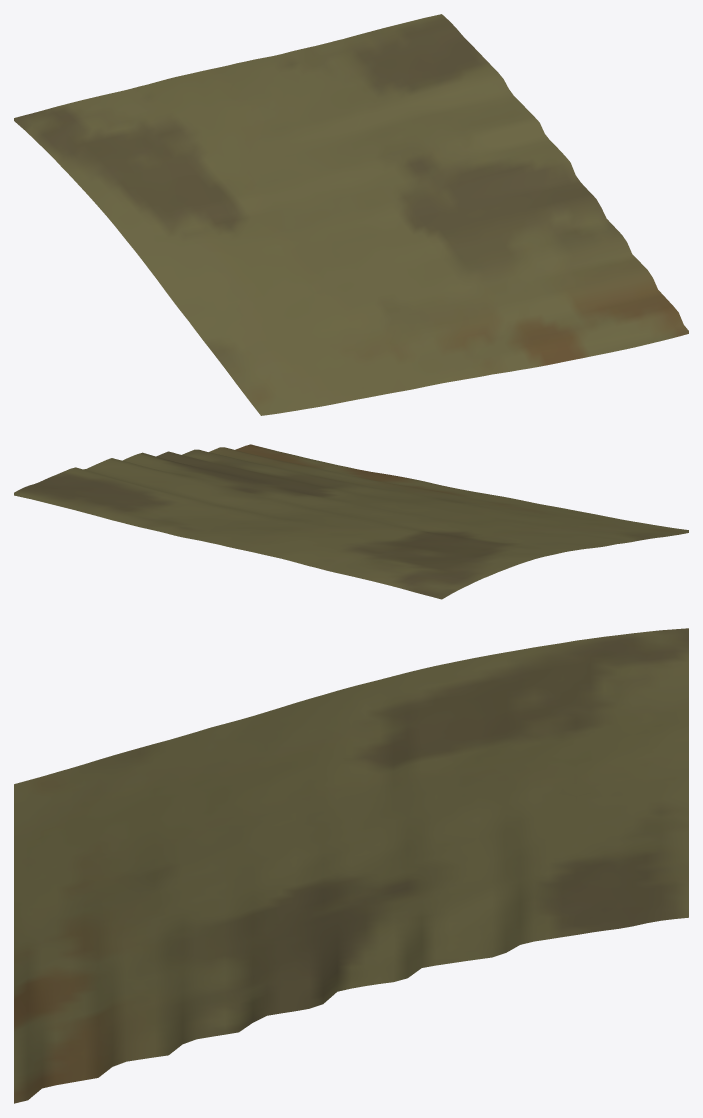
The model's file is land_m_07_02.glb.
3 views of the same model, one above another, from view 1: azimuth 30°, elevation 25°; view 2: azimuth 150°, elevation 25°; view 3: azimuth 270°, elevation 25° (orthographic). The views are drawn at different scales.
Parts seen in each view (by area): view 1: land_m_07_02; view 2: land_m_07_02; view 3: land_m_07_02.
Part boxes in pixels (x1,y1,x2,y2): land_m_07_02: (14, 14, 688, 415); land_m_07_02: (14, 444, 688, 599); land_m_07_02: (14, 628, 688, 1103).
Size of the model in its own units: 960 by 303 by 960.
